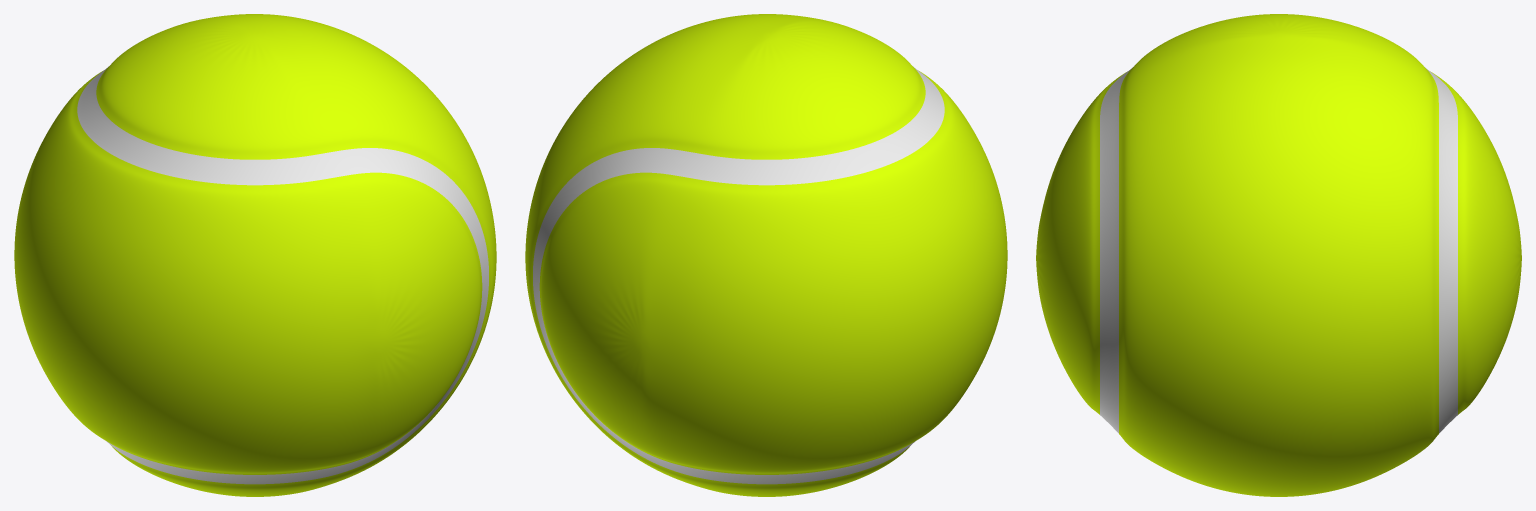
Rendered from tennis.glb.
3 views of the same model, side by side, from view 1: azimuth 30°, elevation 25°; view 2: azimuth 150°, elevation 25°; view 3: azimuth 270°, elevation 25° (orthographic).
Visible parts, largest first — view 1: Sphere; view 2: Sphere; view 3: Sphere.
Boxes of the visible parts, left/top/right/bottom form: Sphere: left=14, top=14, right=496, bottom=496; Sphere: left=525, top=14, right=1007, bottom=496; Sphere: left=1036, top=14, right=1521, bottom=496.
Size of the model in its own units: 1.4 by 1.41 by 1.41.
